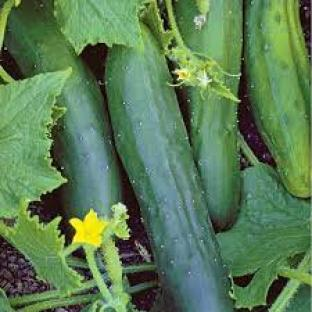Cucumber: (106, 27, 232, 311), (188, 88, 239, 228)
